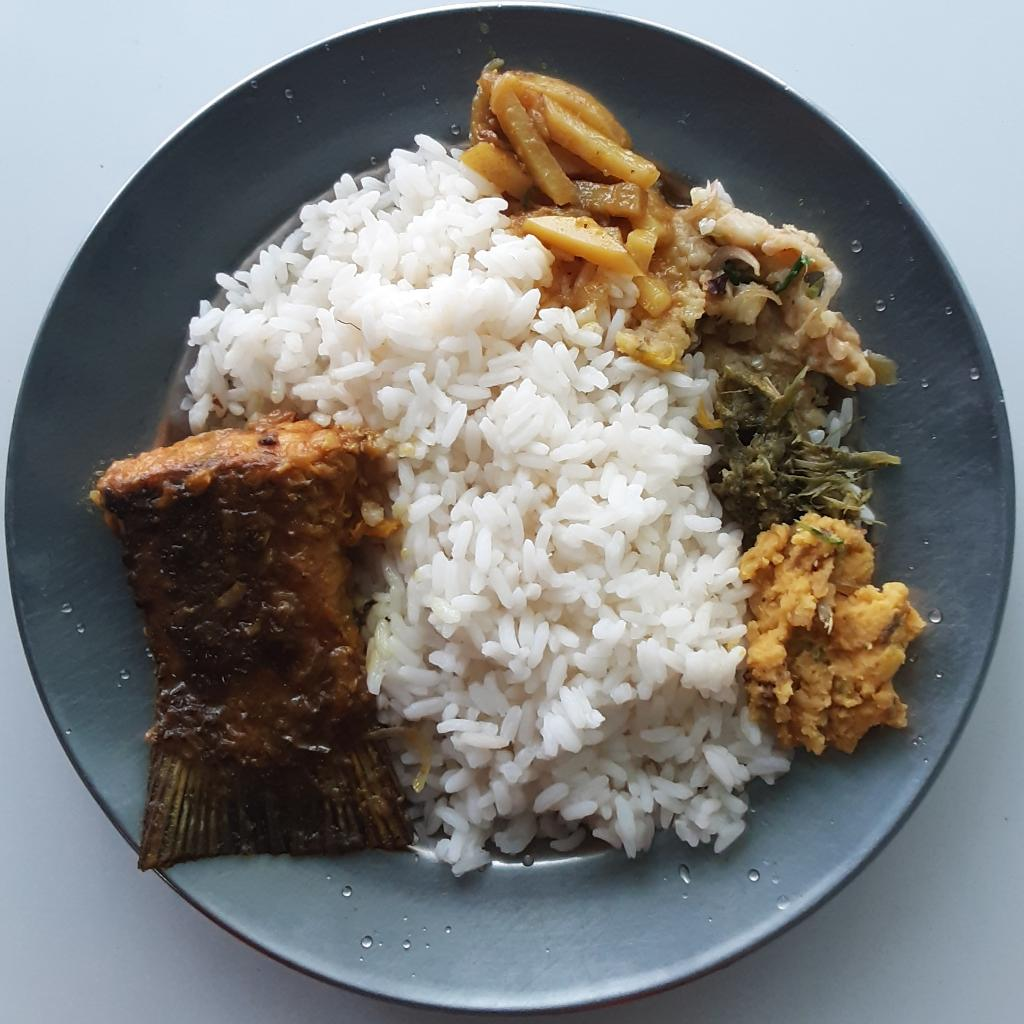daal: (742, 514, 926, 766)
fish: (95, 420, 415, 875)
potato: (465, 59, 678, 346), (633, 173, 899, 379)
rice: (184, 130, 800, 874)
shak: (721, 369, 907, 554)
